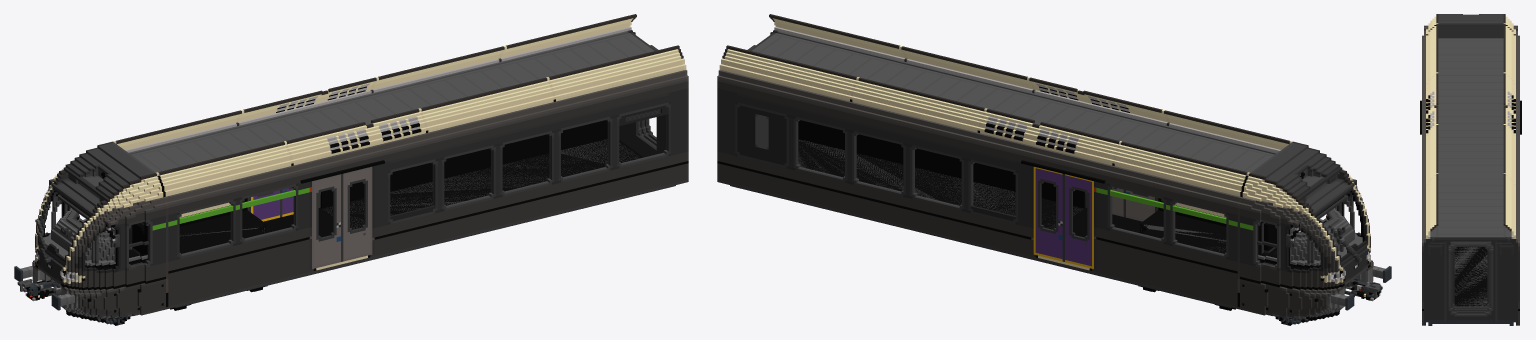
Rendered from thurbo_rabe_526_7_abt1.obj.
3 renders of one model, left to right at view 1: azimuth 30°, elevation 25°; view 2: azimuth 150°, elevation 25°; view 3: azimuth 270°, elevation 25°, orthographic. The views are drawn at different scales.
Visible parts, largest first — view 1: FRAME_1, FRAME_2, FRAME_FRONT, INTERIOR_LCG_il_LINVERT_2, FLOOR_2_invisible, Door_1, INTERIOR_LCG_cab1, FLOOR_1_invisible, FRAME_first_class, Door_2, INTERIOR_LCG_il_LINVERT_1, the coupler; view 2: FRAME_1, FRAME_2, FRAME_FRONT, INTERIOR_LCG_il_LINVERT_2, FLOOR_2_invisible, Door_2, INTERIOR_LCG_cab1, FRAME_toilet_window, FLOOR_1_invisible, INTERIOR_LCG_il_LINVERT_1, FRAME_first_class, Door_1 (+1 smaller); view 3: FRAME_1, FRAME_2, FRAME_FRONT, FLOOR_2_invisible, INTERIOR_LCG_il_LINVERT_2.
Part boxes in pixels (x1,y1,x2,y2): FRAME_1: (175,14,688,307); FRAME_2: (115,106,312,308); FRAME_FRONT: (14,141,168,318); INTERIOR_LCG_il_LINVERT_2: (320,114,667,229); FLOOR_2_invisible: (264,139,643,237); Door_1: (312,166,372,268); INTERIOR_LCG_cab1: (42,190,148,269); FLOOR_1_invisible: (179,210,265,253); FRAME_first_class: (152,187,311,230); Door_2: (251,187,293,221); INTERIOR_LCG_il_LINVERT_1: (179,187,294,254); the coupler: (17,279,61,301); FRAME_1: (717,14,1230,307); FRAME_2: (1093,106,1290,308); FRAME_FRONT: (1237,141,1391,318); INTERIOR_LCG_il_LINVERT_2: (797,120,1085,228); FLOOR_2_invisible: (798,139,1141,237); Door_2: (1033,166,1093,268); INTERIOR_LCG_cab1: (1257,190,1365,269); FRAME_toilet_window: (737,105,786,165); FLOOR_1_invisible: (1140,210,1226,253); INTERIOR_LCG_il_LINVERT_1: (1111,187,1226,254); FRAME_first_class: (1094,187,1253,230); Door_1: (1112,187,1154,221); FRAME_1: (1420,79,1521,325); FRAME_2: (1420,24,1521,104); FRAME_FRONT: (1422,14,1519,42); FLOOR_2_invisible: (1454,247,1487,306); INTERIOR_LCG_il_LINVERT_2: (1454,247,1487,306).
Bounding box in the file's own units: 17.81 × 3.94 × 3.12.
1 material, 1 textured.
